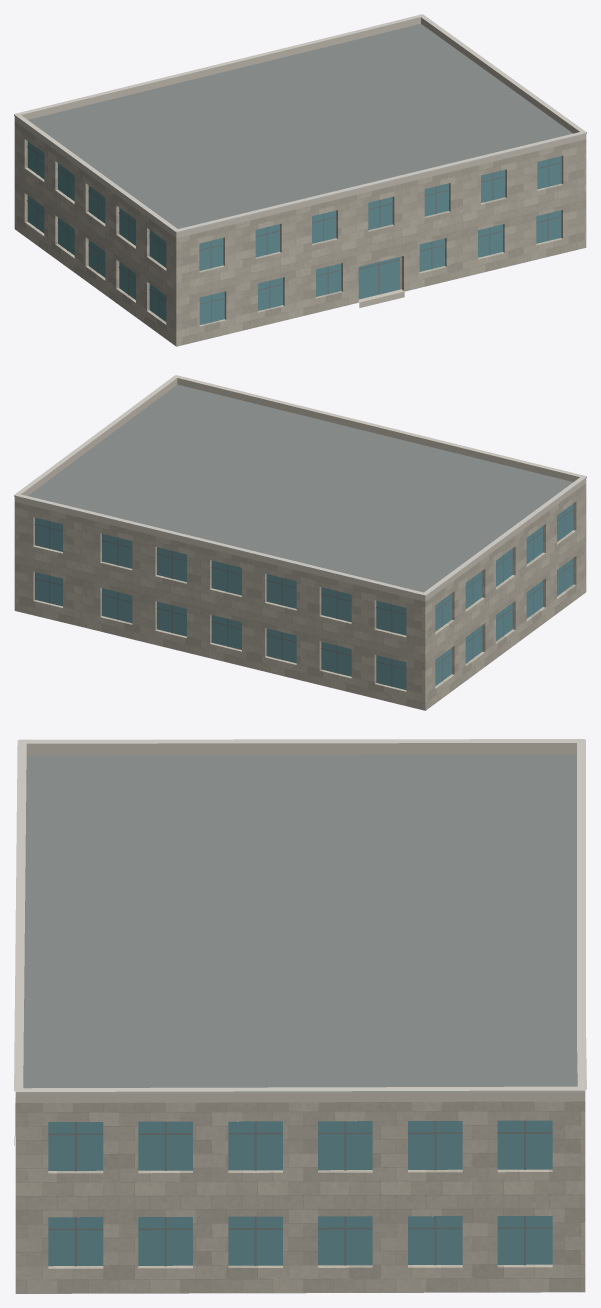
3 renders of one model, top to bottom at view 1: azimuth 30°, elevation 25°; view 2: azimuth 150°, elevation 25°; view 3: azimuth 270°, elevation 25°, orthographic. The views are drawn at different scales.
Visible parts, largest first — view 1: gymAnnex__roof, gymAnnex__wall, gymAnnex__glass, gymAnnex__parapet, gymAnnex__trim, gymAnnex__frame; view 2: gymAnnex__roof, gymAnnex__wall, gymAnnex__glass, gymAnnex__parapet, gymAnnex__trim, gymAnnex__frame; view 3: gymAnnex__roof, gymAnnex__wall, gymAnnex__glass, gymAnnex__trim, gymAnnex__parapet, gymAnnex__frame.
Boxes of the visible parts, left/top/right/bottom form: gymAnnex__roof: left=15, top=23, right=585, bottom=346; gymAnnex__wall: left=14, top=121, right=586, bottom=346; gymAnnex__glass: left=27, top=141, right=561, bottom=324; gymAnnex__parapet: left=14, top=17, right=586, bottom=237; gymAnnex__trim: left=14, top=14, right=586, bottom=232; gymAnnex__frame: left=27, top=146, right=561, bottom=322; gymAnnex__roof: left=16, top=384, right=585, bottom=710; gymAnnex__wall: left=14, top=483, right=586, bottom=710; gymAnnex__glass: left=35, top=504, right=573, bottom=689; gymAnnex__parapet: left=14, top=378, right=586, bottom=601; gymAnnex__trim: left=14, top=375, right=586, bottom=596; gymAnnex__frame: left=34, top=508, right=573, bottom=686; gymAnnex__roof: left=16, top=754, right=584, bottom=1293; gymAnnex__wall: left=15, top=1101, right=585, bottom=1293; gymAnnex__glass: left=48, top=1120, right=552, bottom=1266; gymAnnex__trim: left=14, top=739, right=586, bottom=1094; gymAnnex__parapet: left=15, top=743, right=585, bottom=1102; gymAnnex__frame: left=48, top=1120, right=552, bottom=1266.
Bounding box in the file's own units: 32.6 × 9.1 × 22.36.
Materials: 8 (1 with a texture image).
